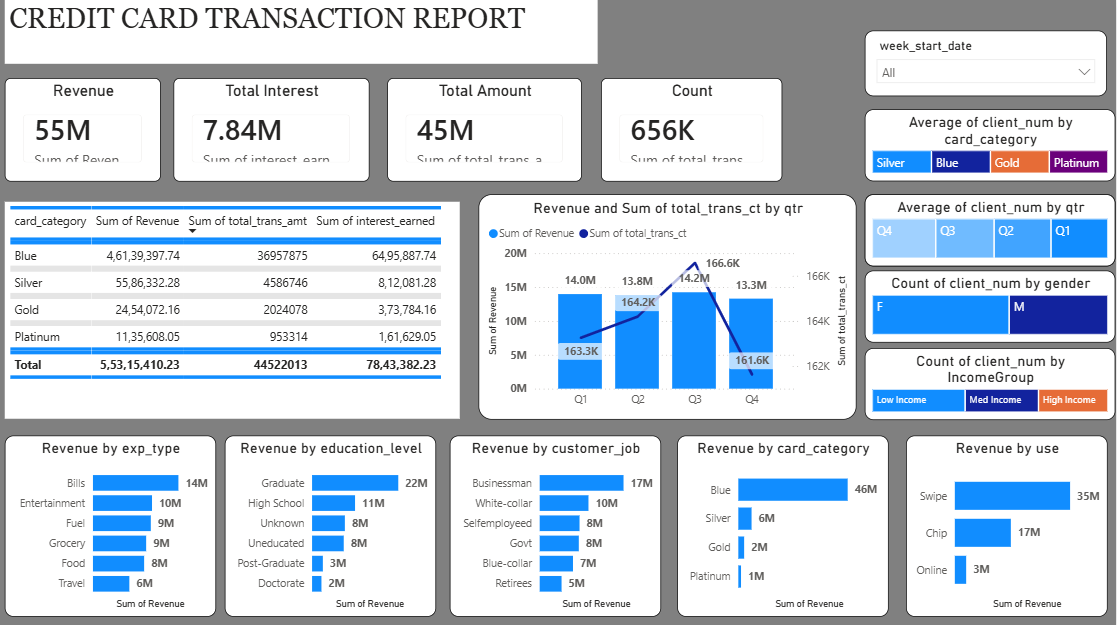

This screenshot's page, from the dashboard's own definition file:
{"tool":"powerbi","page":{"name":"Page 1","canvas":[1280,720],"ordinal":0},"visuals":[{"type":"textbox","box":[9.6,0,677.9,75.5],"z":0},{"type":"lineStackedColumnComboChart","title":"Revenue and Sum of total_trans_ct by qtr","fields":{"Category":["public cc_detail.qtr"],"Y":["Sum(public cc_detail.Revenue)"],"Y2":["Sum(public cc_detail.total_trans_ct)"]},"box":[551.6,223.7,432.2,258],"z":1000},{"type":"barChart","title":"Revenue by exp_type","fields":{"Y":["Sum(public cc_detail.Revenue)"],"Category":["public cc_detail.exp_type"]},"box":[9.6,499.5,241.5,207.2],"z":2000},{"type":"barChart","title":" Revenue by education_level","fields":{"Y":["Sum(public cc_detail.Revenue)"],"Category":["public cust_detail.education_level"]},"box":[262.1,499.5,241.5,207.2],"z":3000},{"type":"barChart","title":" Revenue by customer_job","fields":{"Y":["Sum(public cc_detail.Revenue)"],"Category":["public cust_detail.customer_job"]},"box":[518.7,499.5,241.5,207.2],"z":4000},{"type":"barChart","title":" Revenue by card_category","fields":{"Y":["Sum(public cc_detail.Revenue)"],"Category":["public cc_detail.card_category"]},"box":[778,499.5,241.5,207.2],"z":5000},{"type":"barChart","title":" Revenue by use","fields":{"Y":["Sum(public cc_detail.Revenue)"],"Category":["public cc_detail.use_chip"]},"box":[1040.1,499.5,230.5,207.2],"z":6000},{"type":"tableEx","fields":{"Values":["public cc_detail.card_category","Sum(public cc_detail.Revenue)","Sum(public cc_detail.total_trans_amt)","Sum(public cc_detail.interest_earned)"]},"box":[10,233.3,520.1,248.4],"z":7000},{"type":"cardVisual","title":"Revenue","fields":{"Data":["Sum(public cc_detail.Revenue)"]},"box":[9.6,91.9,178.4,118],"z":8000},{"type":"cardVisual","title":"Total Interest","fields":{"Data":["Sum(public cc_detail.interest_earned)"]},"box":[203.1,91.9,223.7,118],"z":9000},{"type":"cardVisual","title":"Total Amount","fields":{"Data":["Sum(public cc_detail.total_trans_amt)"]},"box":[447.3,91.9,222.3,118],"z":10000},{"type":"cardVisual","title":"Count","fields":{"Data":["Sum(public cc_detail.total_trans_ct)"]},"box":[691.6,91.9,207.2,118],"z":11000},{"type":"slicer","fields":{"Values":["public cc_detail.week_start_date"]},"box":[993.5,37,277.2,75.5],"z":12000},{"type":"treemap","fields":{"Group":["public cc_detail.qtr"],"Values":["Avg(public cc_detail.client_num)"]},"box":[993.5,223.7,286.8,82.3],"z":13000},{"type":"treemap","fields":{"Group":["public cc_detail.qtr"],"Values":["Avg(public cc_detail.client_num)"]},"box":[993.2,223.7,286.8,82.3],"z":14000},{"type":"treemap","fields":{"Group":["public cust_detail.gender"],"Values":["CountNonNull(public cc_detail.client_num)"]},"box":[993.5,311.5,286.8,82.3],"z":15000},{"type":"treemap","fields":{"Values":["CountNonNull(public cc_detail.client_num)"],"Group":["public cust_detail.IncomeGroup"]},"box":[993.5,399.3,286.8,82.3],"z":16000},{"type":"treemap","fields":{"Group":["public cc_detail.card_category"],"Values":["Avg(public cc_detail.client_num)"]},"box":[993.5,127.6,286.8,82.3],"z":17000}]}

Visuals, with their boxes in screenshot pixels (x1, y1, x2, y2), scaled from the page's 1280x720 canvas onto the 1117x625 screenshot:
textbox: left=8, top=0, right=600, bottom=66
"Revenue and Sum of total_trans_ct by qtr" lineStackedColumnComboChart: left=481, top=194, right=859, bottom=418
"Revenue by exp_type" barChart: left=8, top=434, right=219, bottom=613
" Revenue by education_level" barChart: left=229, top=434, right=439, bottom=613
" Revenue by customer_job" barChart: left=453, top=434, right=663, bottom=613
" Revenue by card_category" barChart: left=679, top=434, right=890, bottom=613
" Revenue by use" barChart: left=908, top=434, right=1109, bottom=613
tableEx - public cc_detail.card_category x Sum(public cc_detail.Revenue): left=9, top=203, right=463, bottom=418
"Revenue" cardVisual: left=8, top=80, right=164, bottom=182
"Total Interest" cardVisual: left=177, top=80, right=372, bottom=182
"Total Amount" cardVisual: left=390, top=80, right=584, bottom=182
"Count" cardVisual: left=604, top=80, right=784, bottom=182
slicer - public cc_detail.week_start_date: left=867, top=32, right=1109, bottom=98
treemap - public cc_detail.qtr x Avg(public cc_detail.client_num): left=867, top=194, right=1116, bottom=266
treemap - public cc_detail.qtr x Avg(public cc_detail.client_num): left=867, top=194, right=1116, bottom=266
treemap - public cust_detail.gender x CountNonNull(public cc_detail.client_num): left=867, top=270, right=1116, bottom=342
treemap - CountNonNull(public cc_detail.client_num) x public cust_detail.IncomeGroup: left=867, top=347, right=1116, bottom=418
treemap - public cc_detail.card_category x Avg(public cc_detail.client_num): left=867, top=111, right=1116, bottom=182
